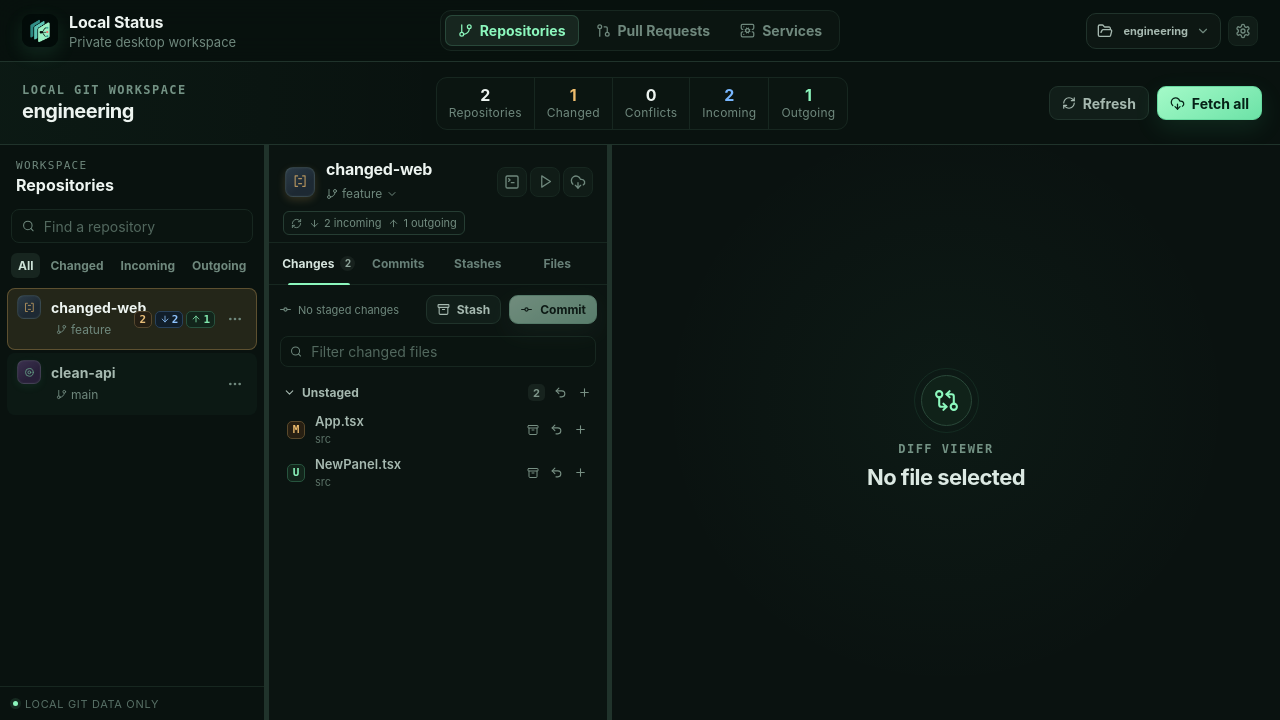
Scenario: Local Status › opens and dismisses the package-script menu
Click the button named "Run a package script" at point(545, 182), box [530, 166, 560, 196]
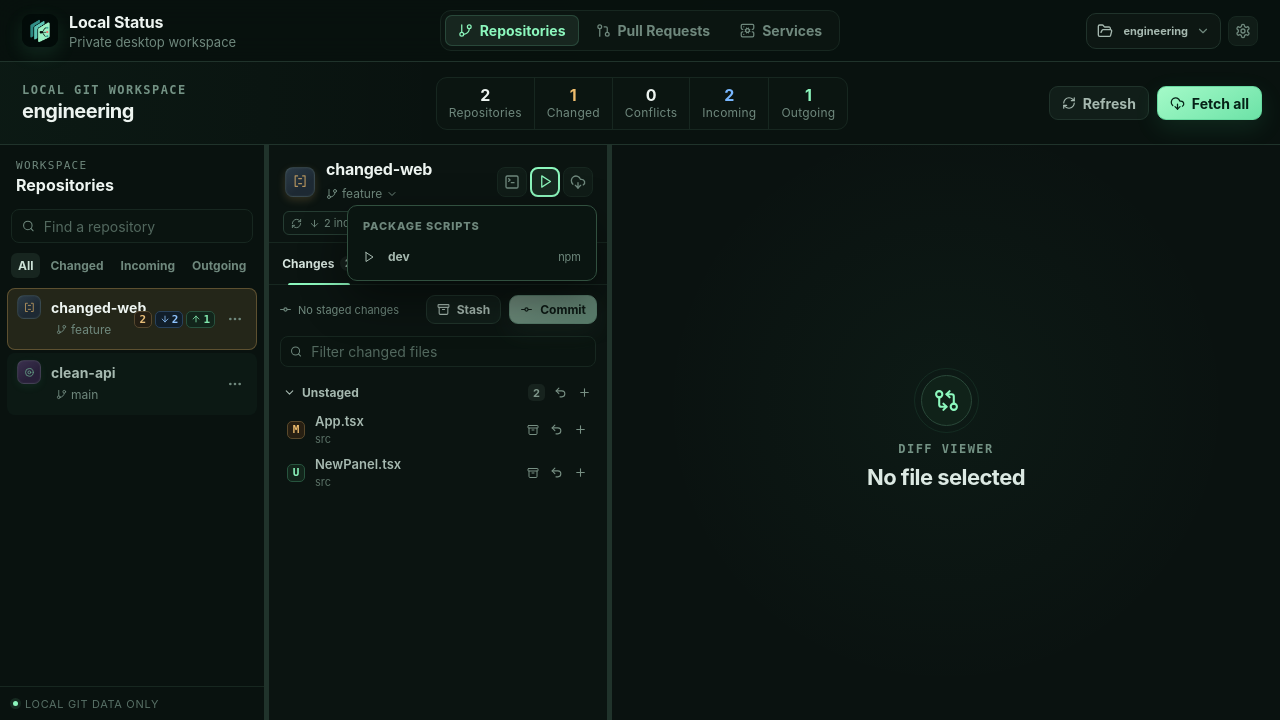
Result: the menu "Package scripts" is shown at [347, 205, 597, 281]
Result: the menu item "dev npm" is shown at [356, 241, 588, 272]
Result: the button named "Run a package script" is expanded at [530, 166, 560, 196]
Click the tab "Changes 2" at point(319, 263), box [279, 242, 358, 284]
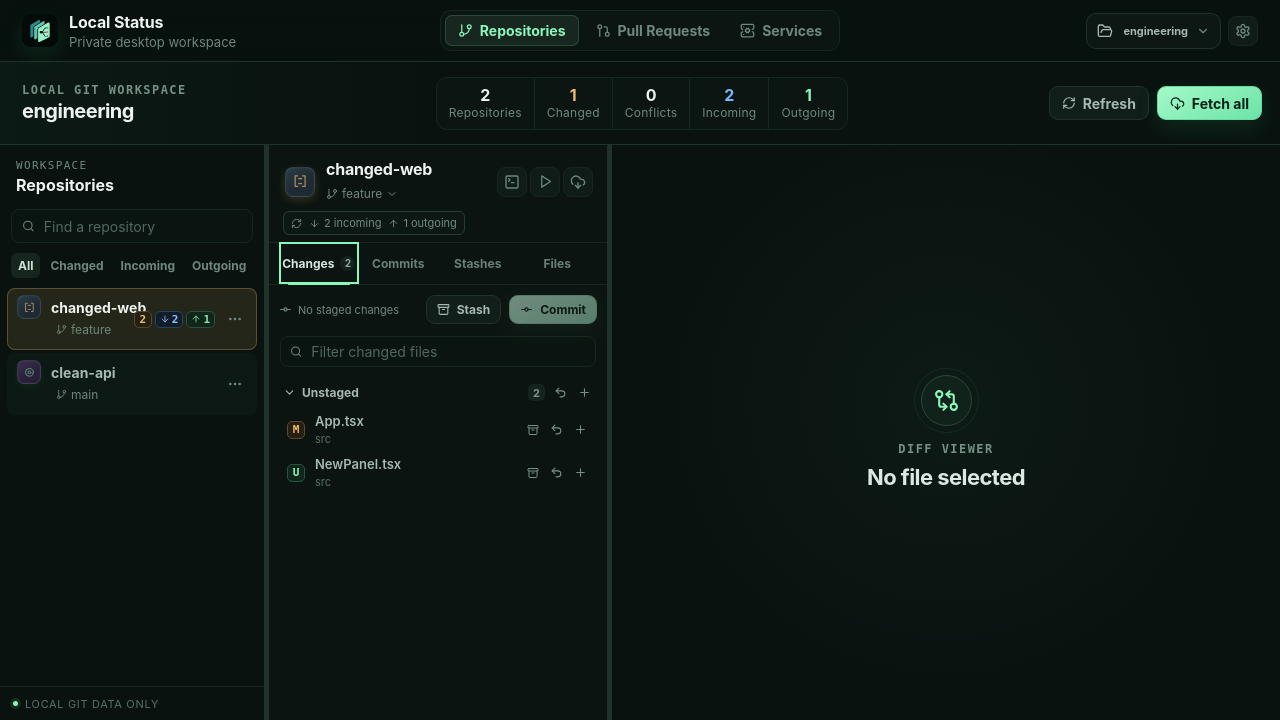
Result: the text "Package scripts" is gone
Result: the button named "Run a package script" is collapsed
Click the button named "Run a package script" at point(545, 182), box [530, 166, 560, 196]
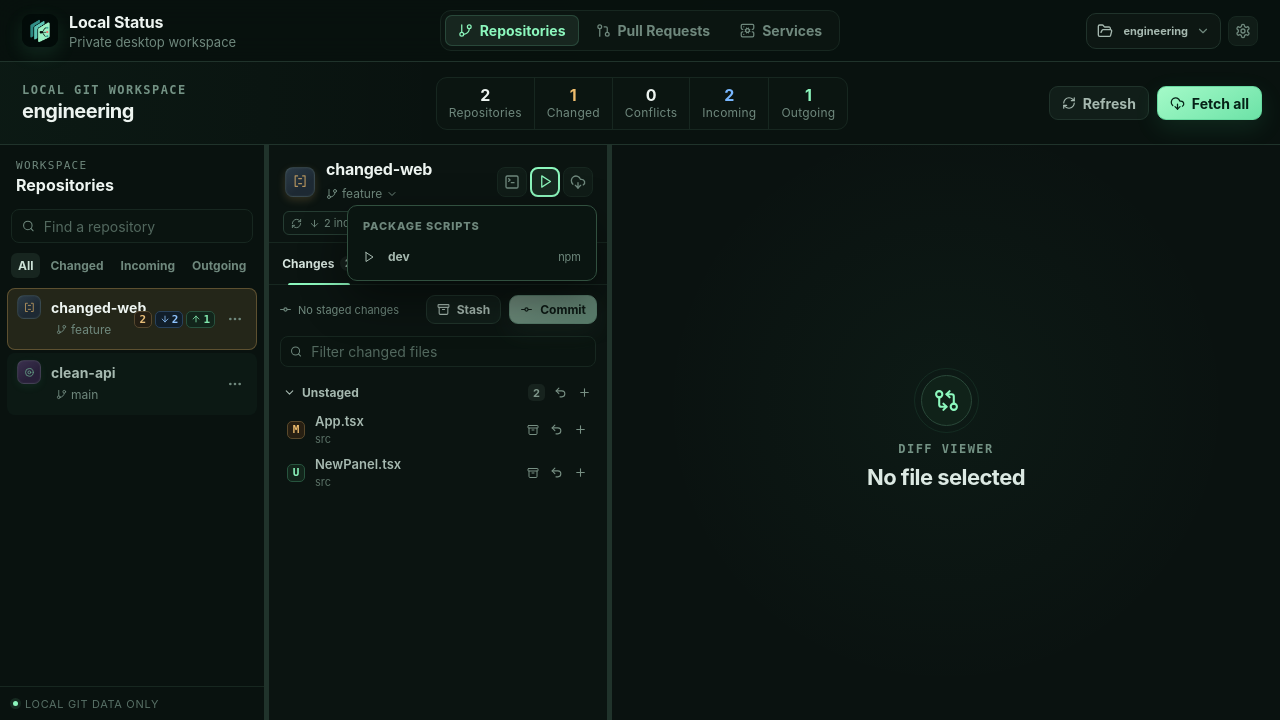
Press Escape
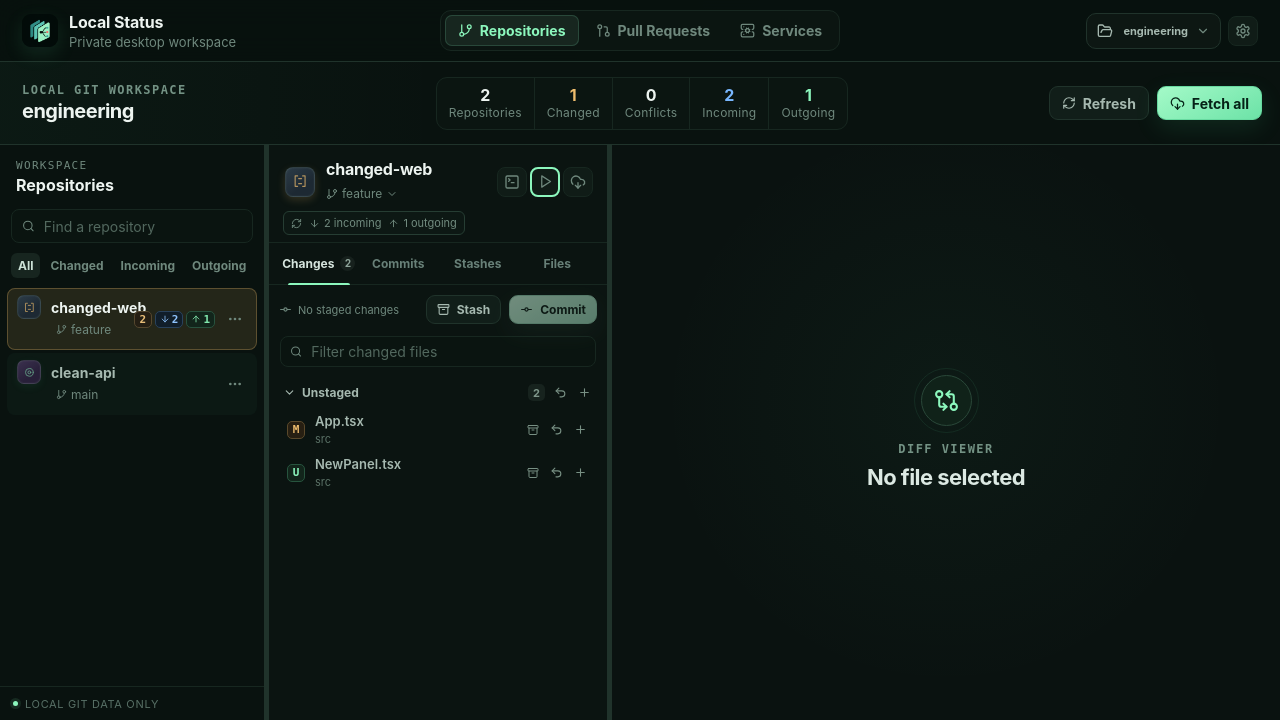
Result: the text "Package scripts" is gone
